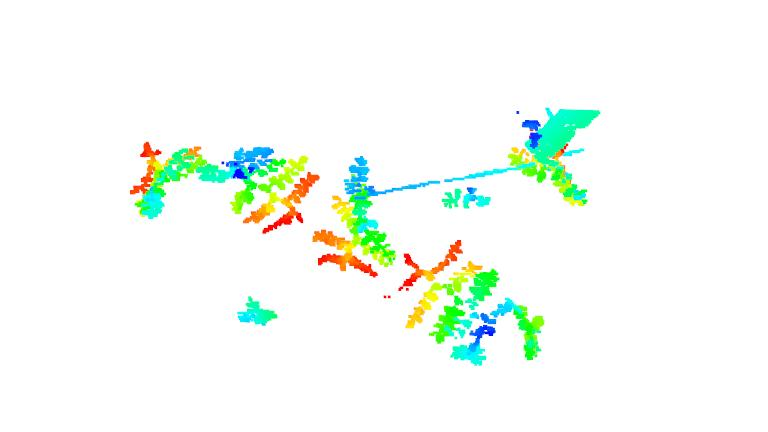chickpea: (399, 239, 517, 367), (311, 155, 399, 278), (221, 145, 320, 234), (134, 139, 219, 221), (510, 137, 591, 206), (510, 302, 548, 362), (234, 295, 280, 330), (439, 184, 494, 211)
